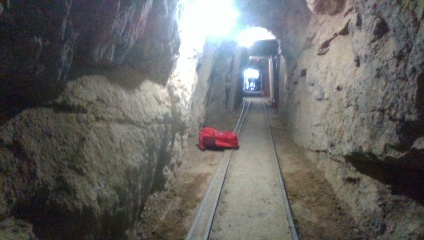backpack: (197, 124, 240, 150)
